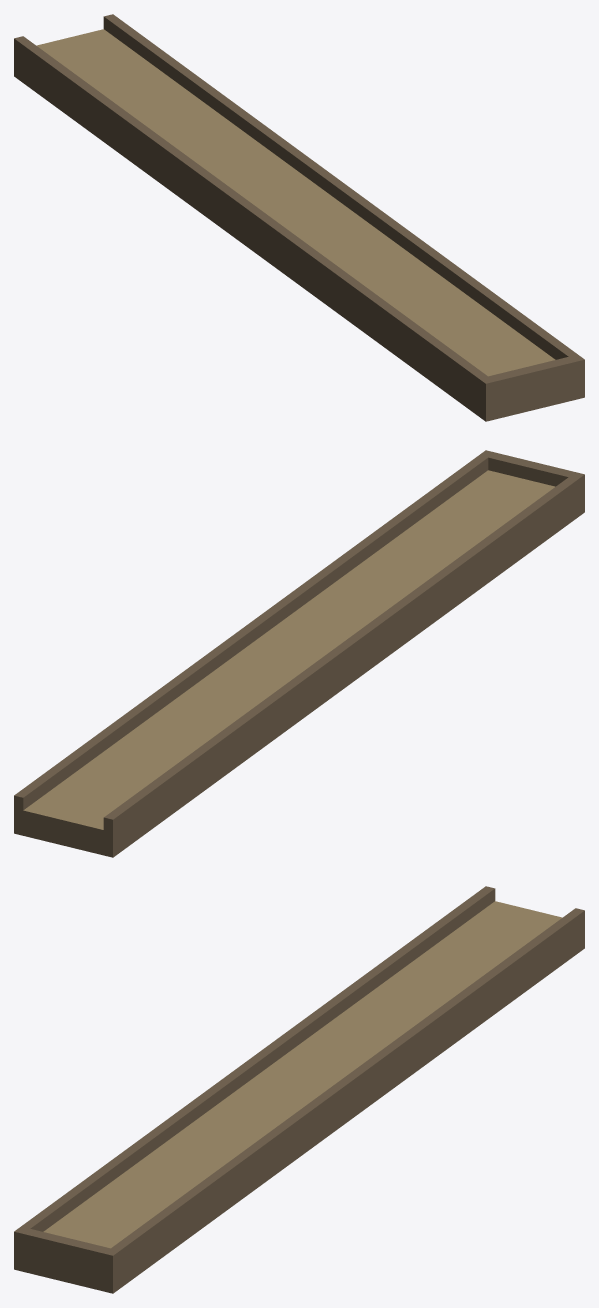
File: path_v02.fbx
3 views of the same model, one above another, from view 1: azimuth 30°, elevation 25°; view 2: azimuth 150°, elevation 25°; view 3: azimuth 330°, elevation 25° (orthographic).
Parts seen in each view (by area): view 1: path; view 2: path; view 3: path.
Part boxes in pixels (x1,y1,x2,y2): path: [14, 14, 584, 421]; path: [14, 450, 584, 857]; path: [14, 886, 584, 1293].
Bounding box in the file's own units: 123 × 45.11 × 1015.
